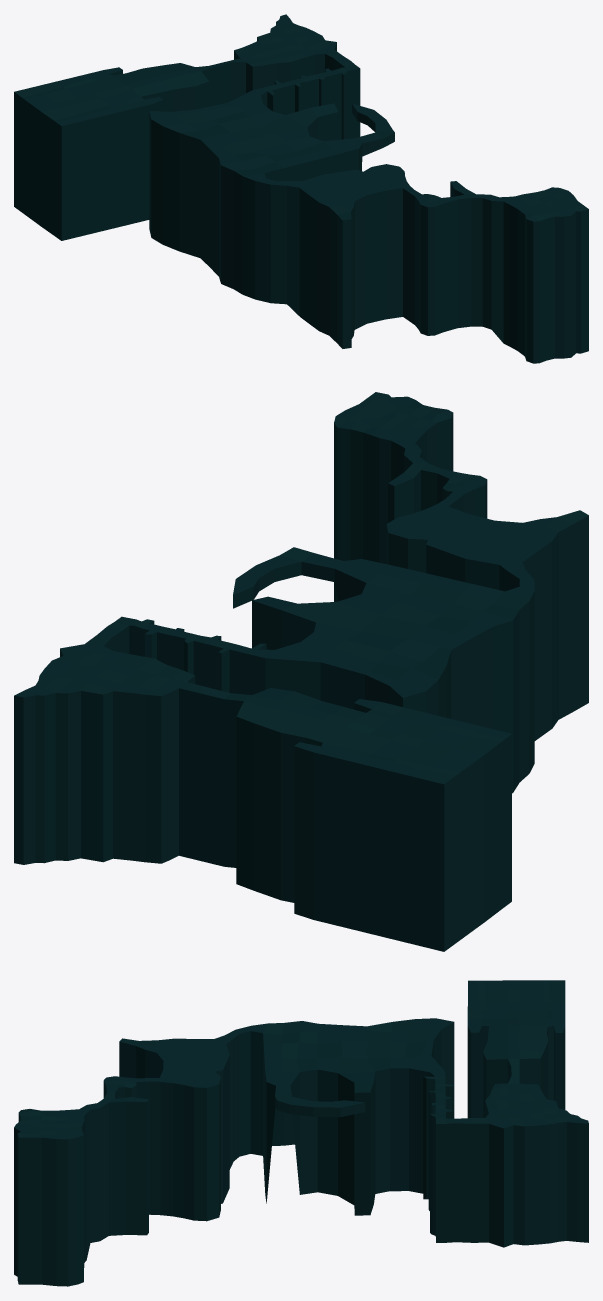
File: map_1.fbx
3 renders of one model, top to bottom at view 1: azimuth 30°, elevation 25°; view 2: azimuth 150°, elevation 25°; view 3: azimuth 270°, elevation 25°, orthographic. The views are drawn at different scales.
Visible parts, largest first — view 1: Plane; view 2: Plane; view 3: Plane.
Boxes of the visible parts, x1,y1,x2,y2 form: Plane: [14, 14, 588, 363]; Plane: [14, 392, 588, 951]; Plane: [14, 980, 588, 1286].
Bounding box in the file's own units: 24708 × 10823 × 37767.
